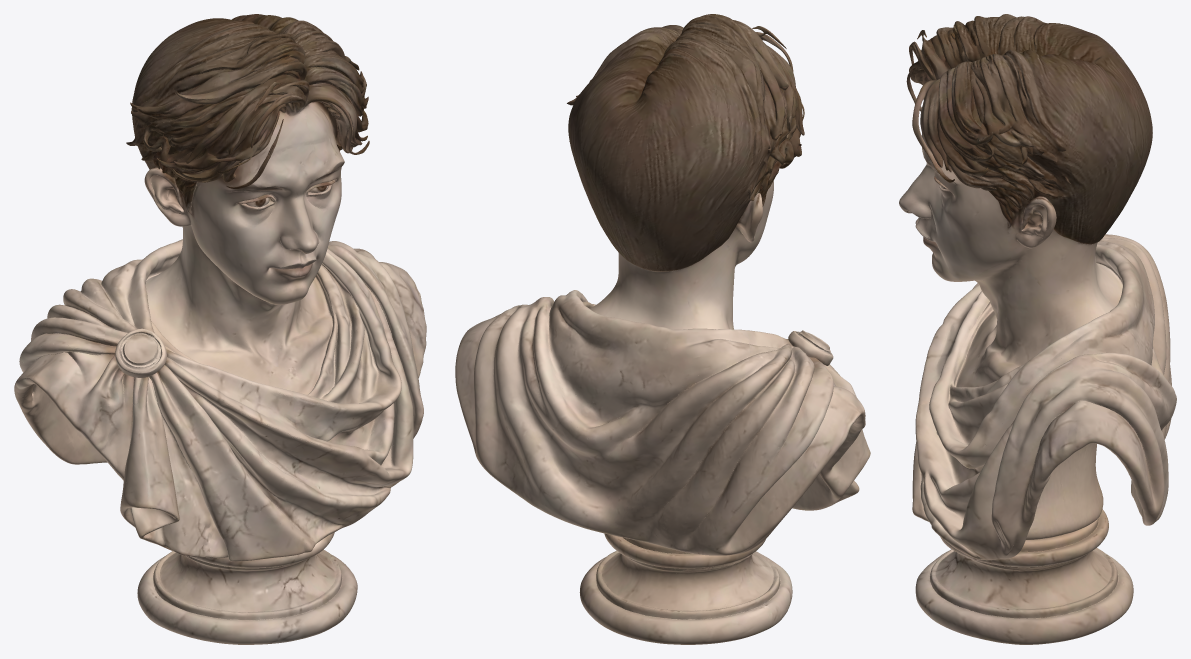
The model's file is 06_박호성.compressed.glb.
3 renders of one model, left to right at view 1: azimuth 30°, elevation 25°; view 2: azimuth 150°, elevation 25°; view 3: azimuth 270°, elevation 25°, orthographic. The views are drawn at different scales.
Visible parts, largest first — view 1: model; view 2: model; view 3: model.
Part boxes in pixels (x1=…): model: x1=14, y1=14, x2=426, y2=644; model: x1=455, y1=14, x2=870, y2=644; model: x1=899, y1=14, x2=1176, y2=644.
Size of the model in its own units: 1.33 by 1.9 by 0.8239.
Materials: 1 (1 with a texture image).
